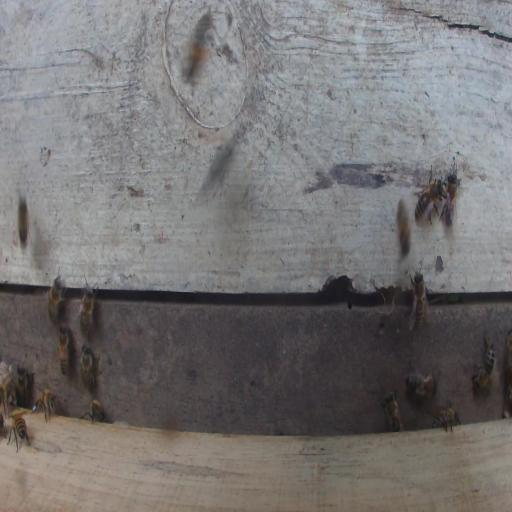nonpollenbee: (413, 163, 444, 226), (408, 257, 429, 331), (471, 334, 496, 390), (442, 163, 460, 225), (46, 267, 65, 324), (79, 281, 98, 338), (5, 410, 30, 453), (382, 389, 405, 432), (31, 387, 57, 423), (404, 371, 437, 399), (396, 198, 411, 258), (80, 343, 98, 391), (431, 405, 461, 432), (58, 322, 70, 376), (18, 195, 29, 250), (16, 362, 29, 401), (87, 398, 105, 423)
pollenbee: (178, 8, 214, 86)
